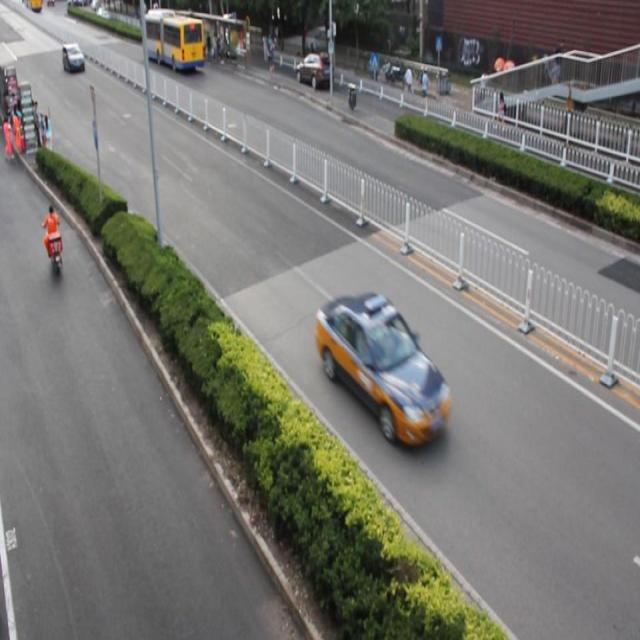car: (314, 295, 448, 446), (296, 54, 334, 91)
van: (142, 11, 202, 71)
